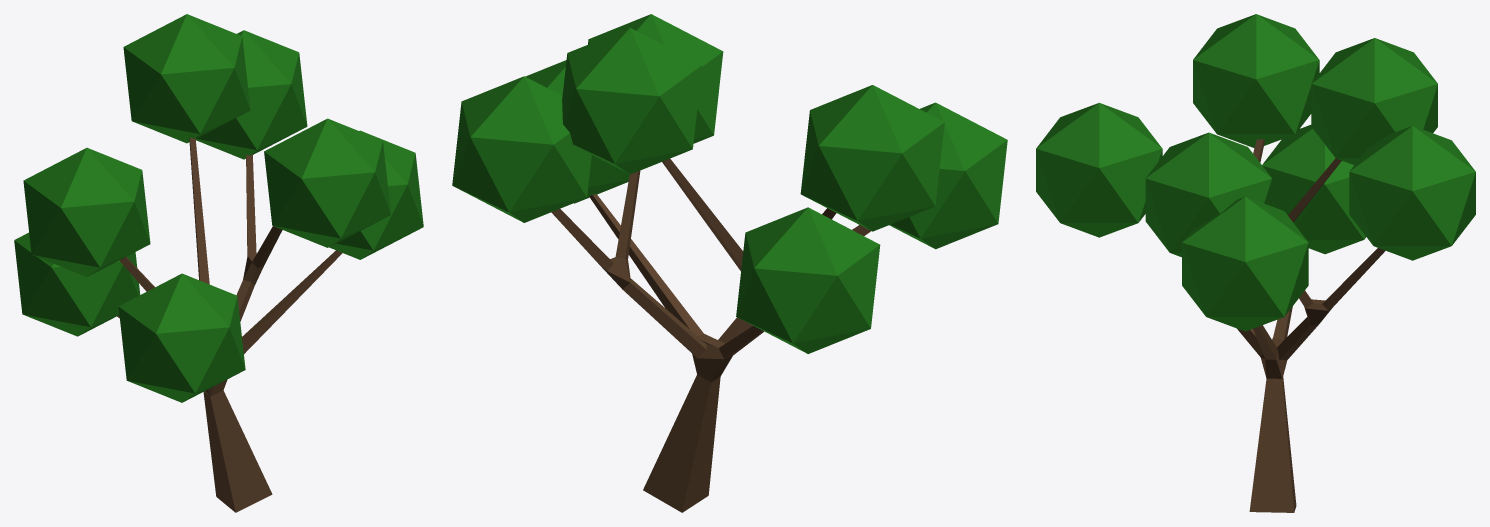
File: arbol.glb
The picture shows the model from 3 angles, left to right: view 1: azimuth 30°, elevation 25°; view 2: azimuth 150°, elevation 25°; view 3: azimuth 270°, elevation 25°; orthographic projection. The views are drawn at different scales.
Parts seen in each view (by area): view 1: Icosphere.003, Icosphere.001, Icosphere.006, Icosphere.005, Cube, Icosphere.004, Icosphere, Icosphere.002; view 2: Icosphere, Icosphere.006, Cube, Icosphere.005, Icosphere.004, Icosphere.001, Icosphere.003, Icosphere.002; view 3: Icosphere.004, Icosphere.002, Icosphere.006, Icosphere.001, Icosphere.005, Icosphere.003, Cube, Icosphere.
Boxes of the visible parts, x1,y1,x2,y2 form: Icosphere.003: [264, 118, 390, 247]; Icosphere.001: [118, 273, 245, 402]; Icosphere.006: [23, 147, 150, 276]; Icosphere.005: [123, 14, 250, 143]; Cube: [117, 138, 342, 512]; Icosphere.004: [195, 30, 307, 159]; Icosphere: [14, 232, 140, 336]; Icosphere.002: [329, 130, 423, 259]; Icosphere: [736, 207, 880, 353]; Icosphere.006: [800, 85, 944, 231]; Cube: [551, 158, 870, 512]; Icosphere.005: [562, 28, 702, 174]; Icosphere.004: [452, 76, 591, 222]; Icosphere.001: [889, 102, 1007, 249]; Icosphere.003: [588, 14, 723, 143]; Icosphere.002: [525, 60, 629, 203]; Icosphere.004: [1349, 126, 1475, 260]; Icosphere.002: [1182, 196, 1308, 331]; Icosphere.006: [1193, 14, 1319, 147]; Icosphere.001: [1036, 102, 1162, 237]; Icosphere.005: [1311, 38, 1437, 164]; Icosphere.003: [1145, 132, 1272, 257]; Cube: [1237, 139, 1385, 512]; Icosphere: [1262, 125, 1365, 254].
Bounding box in the file's own units: 6.12 × 7 × 5.91.
